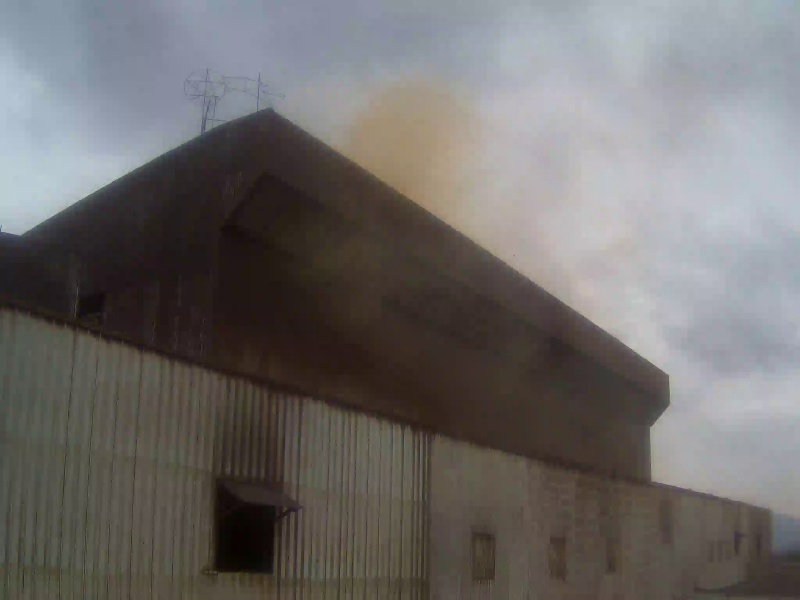bom: (6, 4, 269, 193), (662, 224, 800, 448)
ruim: (319, 54, 626, 367)
